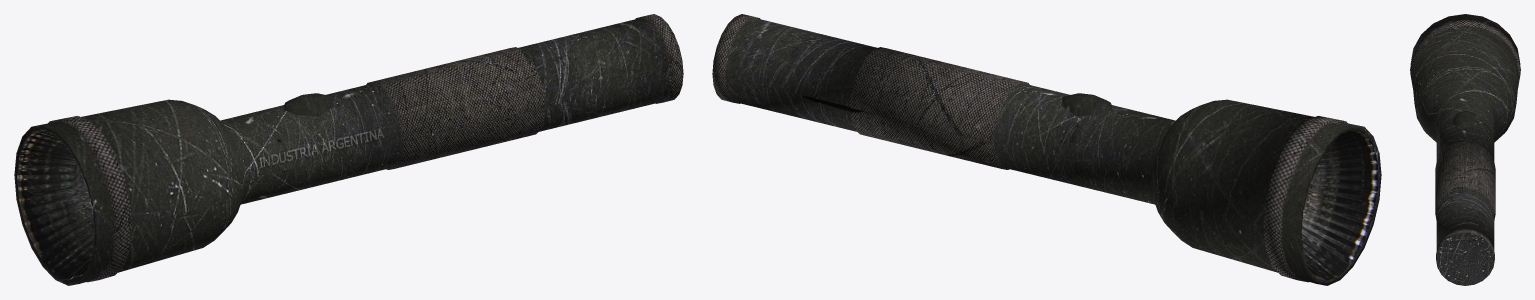
The model's file is flashlight.fbx.
3 renders of one model, left to right at view 1: azimuth 30°, elevation 25°; view 2: azimuth 150°, elevation 25°; view 3: azimuth 270°, elevation 25°, orthographic. The views are drawn at different scales.
Visible parts, largest first — view 1: Sphere, Sphere.001; view 2: Sphere, Sphere.001; view 3: Sphere, Sphere.001.
Part boxes in pixels (x1,y1,x2,y2): Sphere: (14,14,683,285); Sphere.001: (284,93,333,116); Sphere: (712,14,1381,285); Sphere.001: (1062,93,1111,116); Sphere: (1410,14,1520,285); Sphere.001: (1452,110,1478,127).
Size of the model in its own units: 889 by 213 by 213.
Materials: 1 (1 with a texture image).
